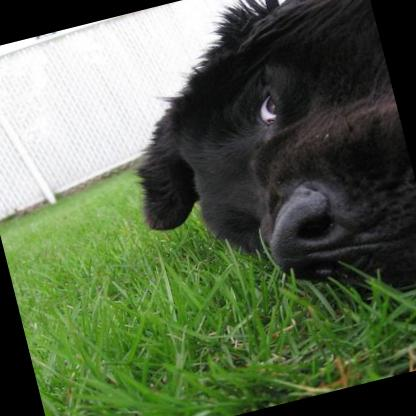Newfoundland: (90, 0, 416, 347)
